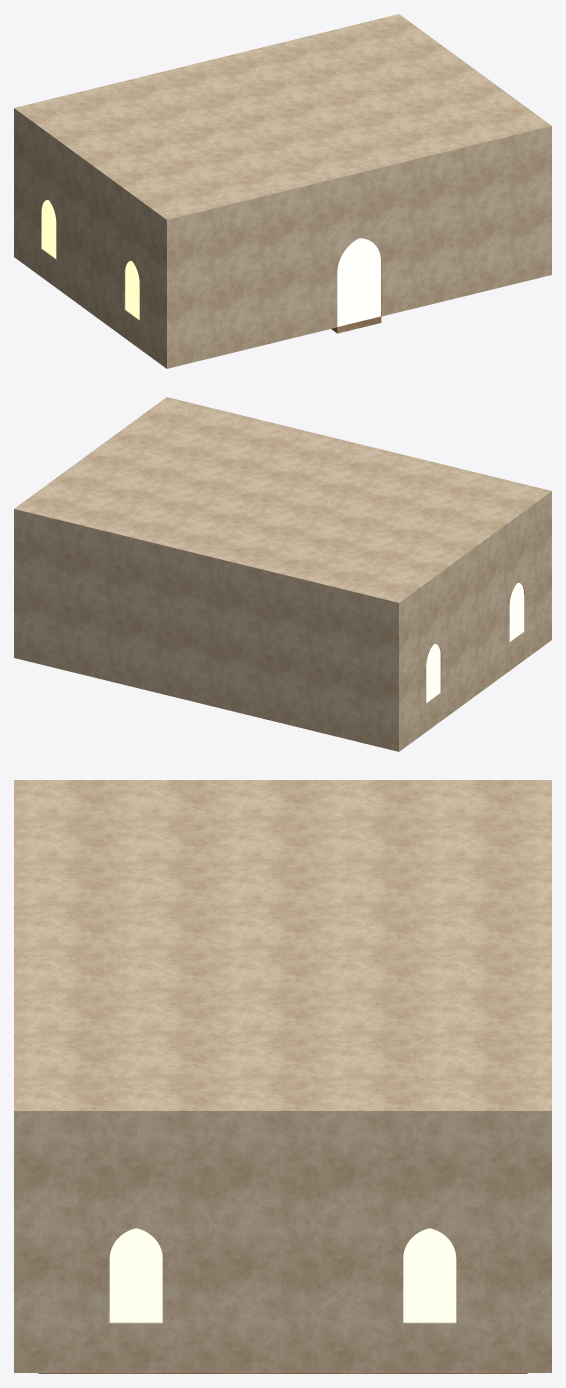
The model's file is fort_interior.glb.
3 views of the same model, one above another, from view 1: azimuth 30°, elevation 25°; view 2: azimuth 150°, elevation 25°; view 3: azimuth 270°, elevation 25° (orthographic). The views are drawn at different scales.
Visible parts, largest first — view 1: Interior_Static, Window_Glow; view 2: Interior_Static, Window_Glow; view 3: Interior_Static, Window_Glow.
Boxes of the visible parts, x1,y1,x2,y2 form: Interior_Static: (14, 14, 551, 368); Window_Glow: (41, 200, 380, 326); Interior_Static: (14, 397, 551, 751); Window_Glow: (426, 583, 524, 702); Interior_Static: (14, 780, 551, 1373); Window_Glow: (109, 1228, 456, 1322).
Size of the model in its own units: 19.2 by 7.4 by 13.2.
Materials: 19 (8 with a texture image).
